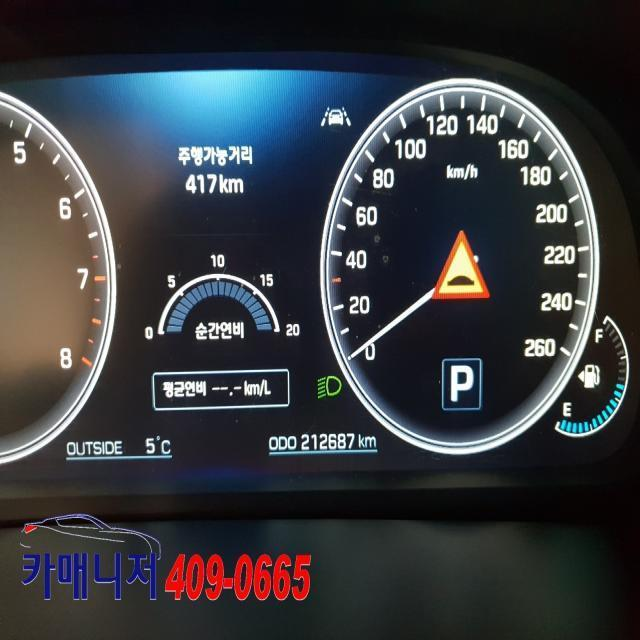LaneCenteringOff: (320, 105, 350, 128)
Low beam: (316, 374, 341, 399)
